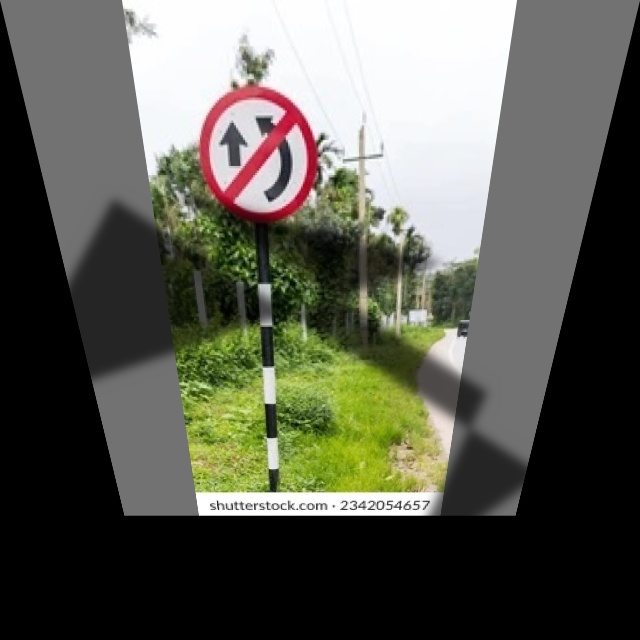Overtaking_Prohibited: (197, 85, 317, 222)
